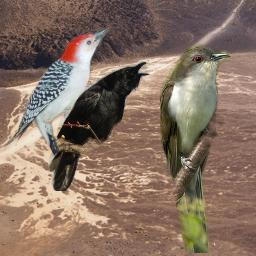Crow: (47, 59, 151, 191)
Cuckoo: (160, 40, 231, 253)
Woodpecker: (4, 27, 114, 170)
